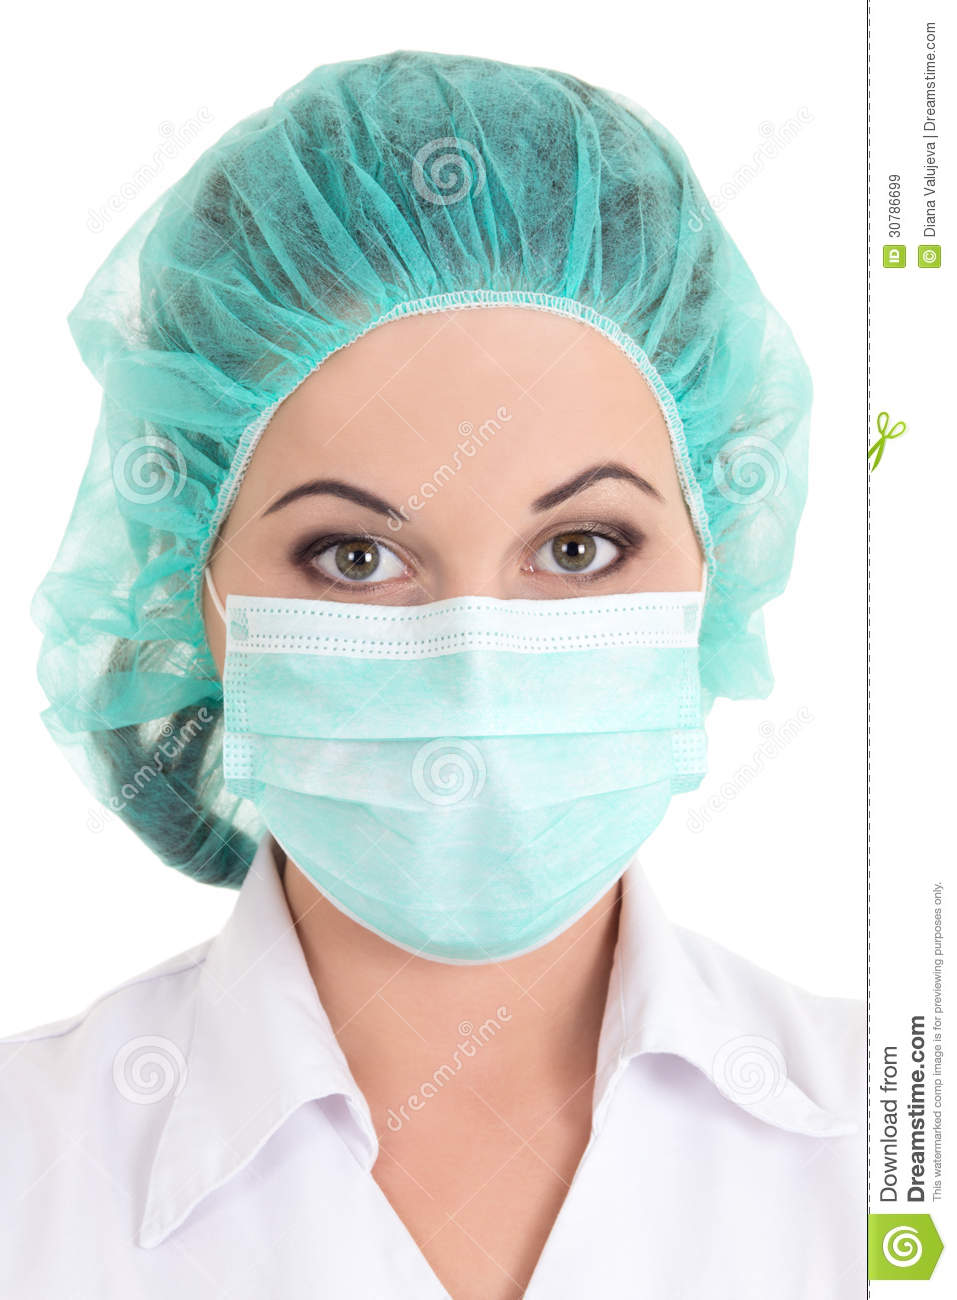mask: (214, 587, 718, 963)
